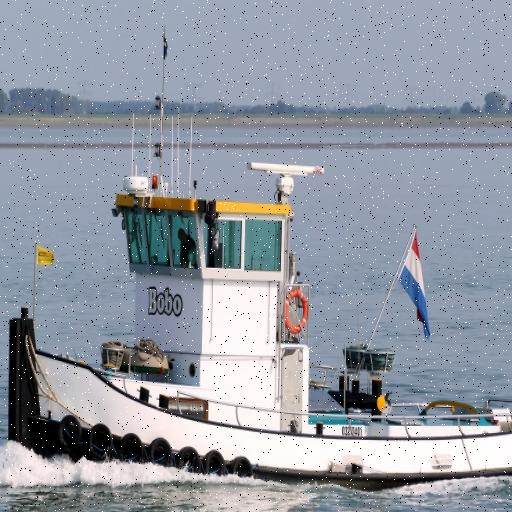tugboat: (7, 26, 512, 512)
